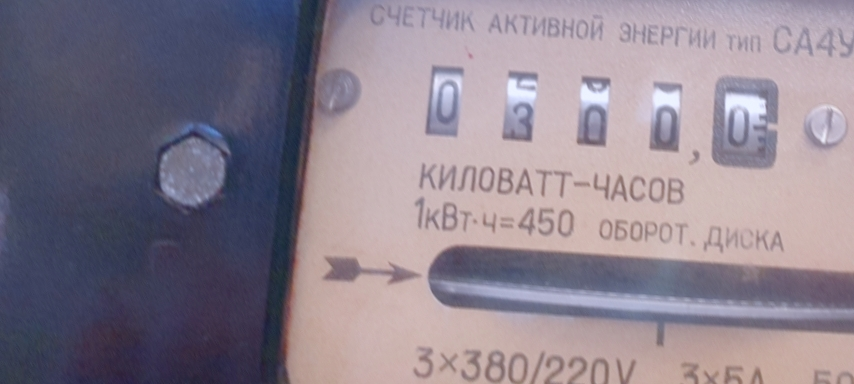0: (722, 101, 753, 152), (432, 74, 461, 128), (577, 99, 607, 149), (648, 102, 679, 150)
3: (505, 97, 536, 142)
screen: (402, 47, 789, 179)
